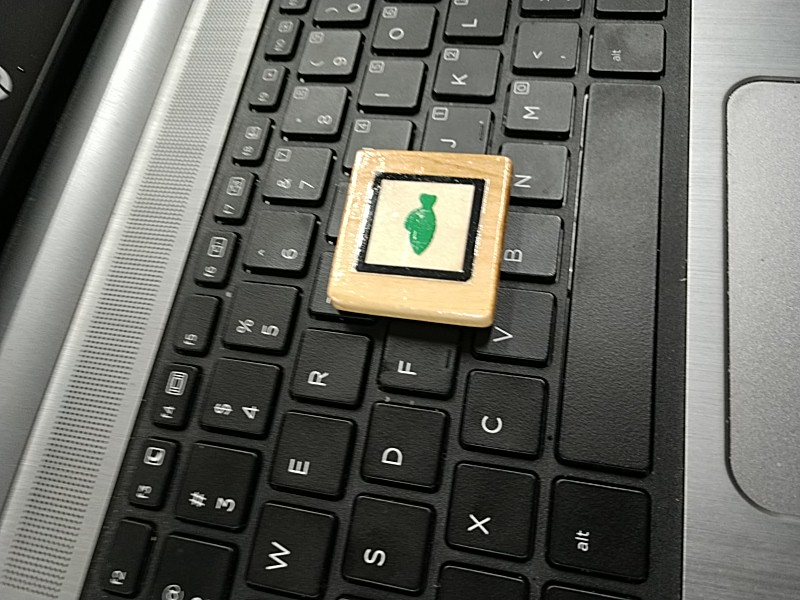Fish Tile: (355, 161, 494, 288)
